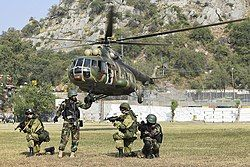uniform: (54, 85, 91, 162), (13, 104, 50, 161), (137, 110, 177, 161), (110, 101, 137, 155)
